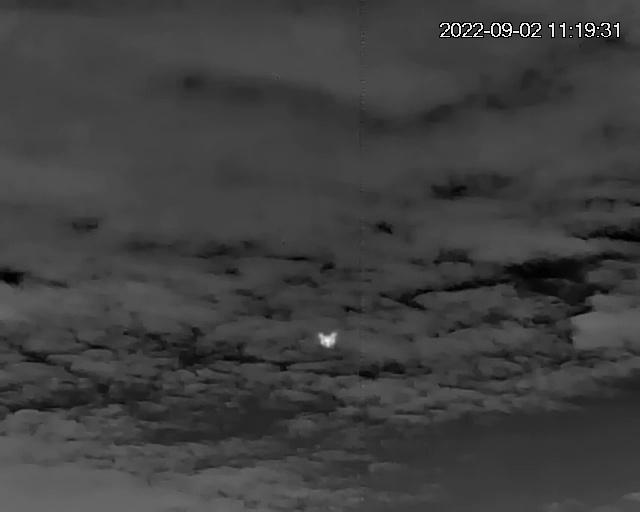DJI-Phantom: (317, 330, 338, 351)
